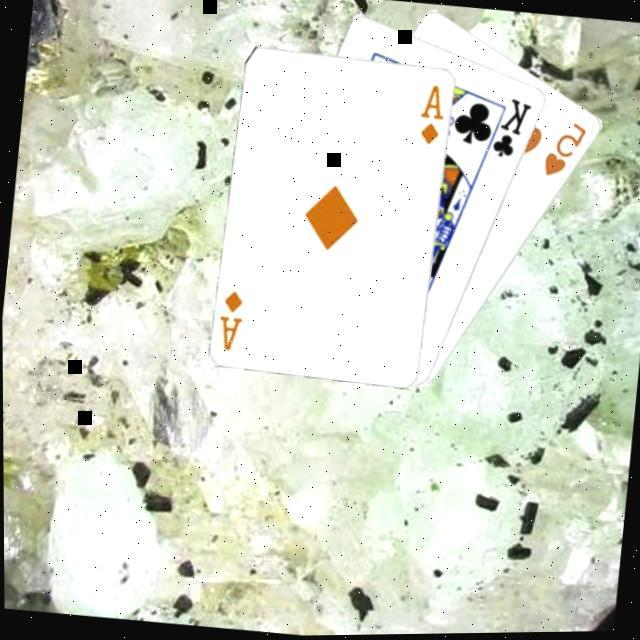5H: (540, 120, 592, 186)
AD: (414, 83, 450, 151), (214, 289, 250, 357)
KC: (479, 94, 536, 168)
